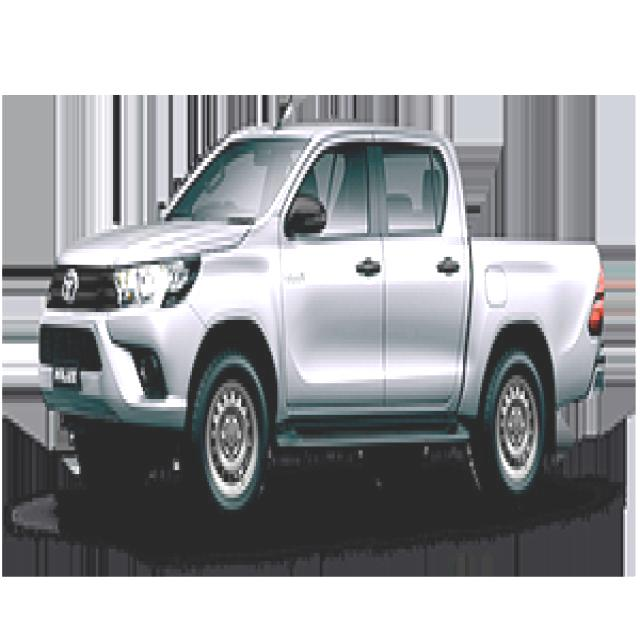CMT: (34, 116, 605, 518)
